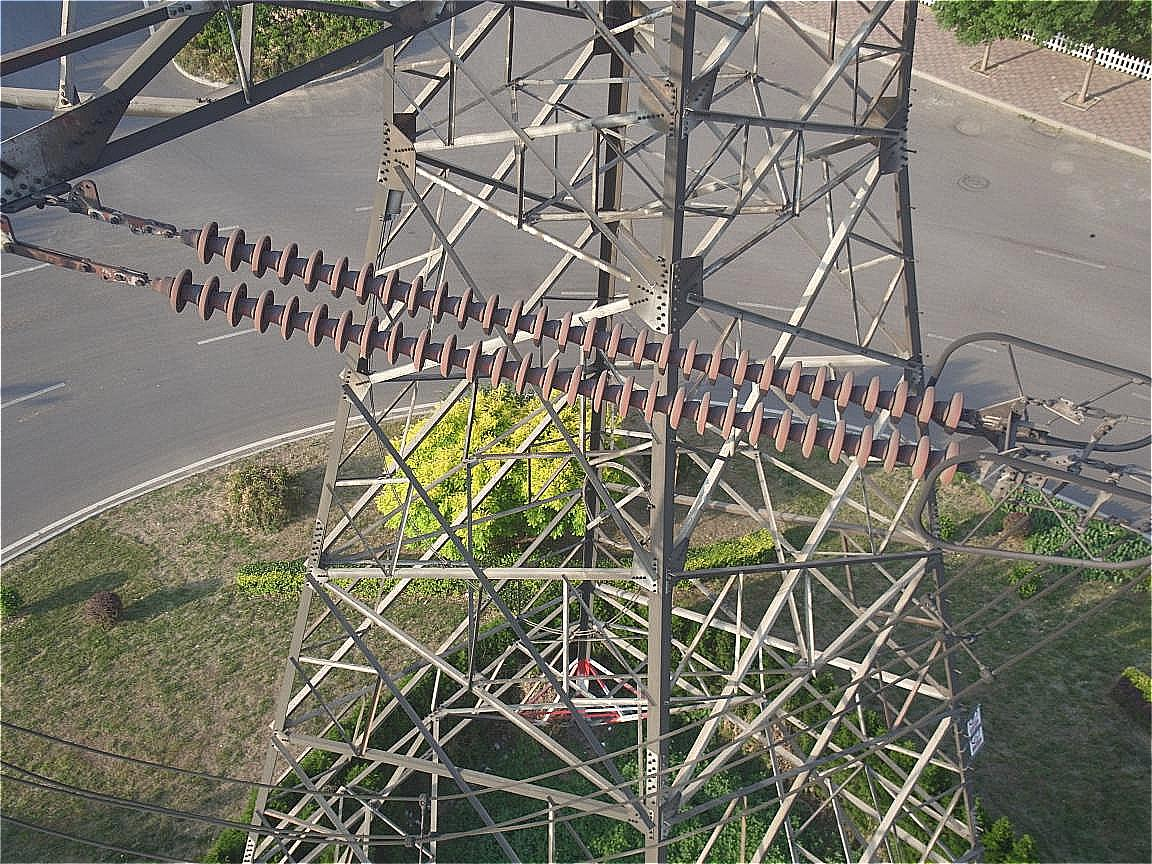insultor1: (149, 195, 989, 496)
